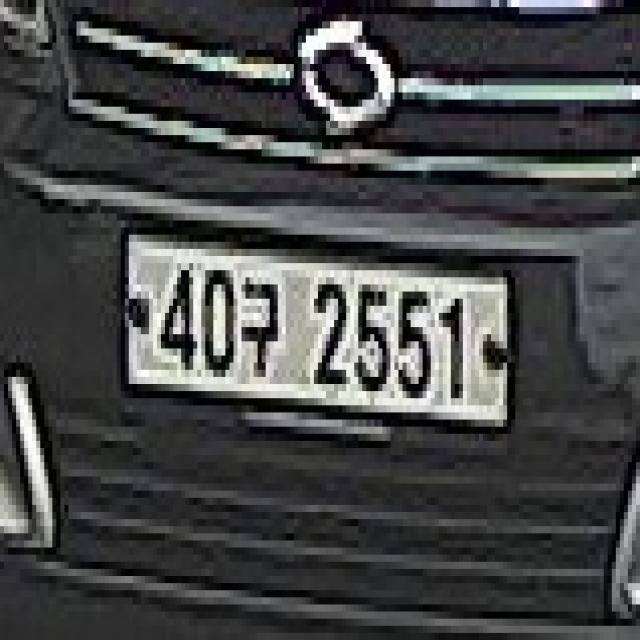0: (202, 263, 238, 377)
1: (439, 292, 471, 406)
2: (306, 270, 346, 391)
4: (157, 263, 197, 377)
5: (350, 277, 395, 398), (390, 278, 431, 406)
gu: (237, 277, 282, 384)
license_plate: (117, 213, 511, 434)
